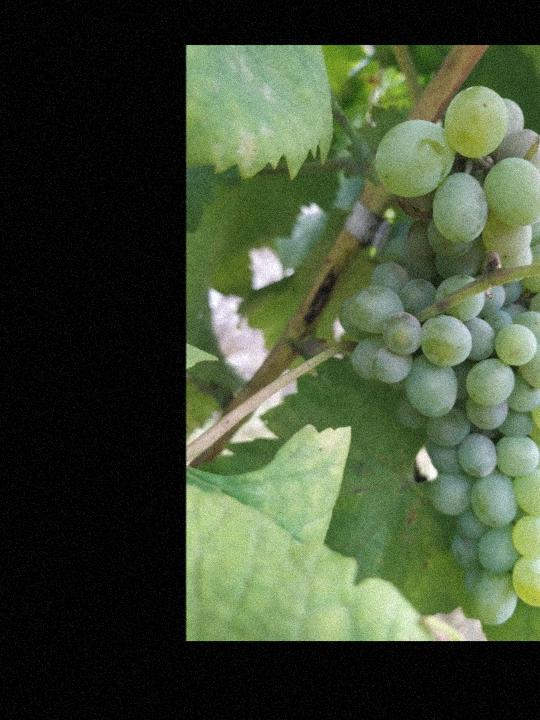grape: (338, 84, 540, 622)
